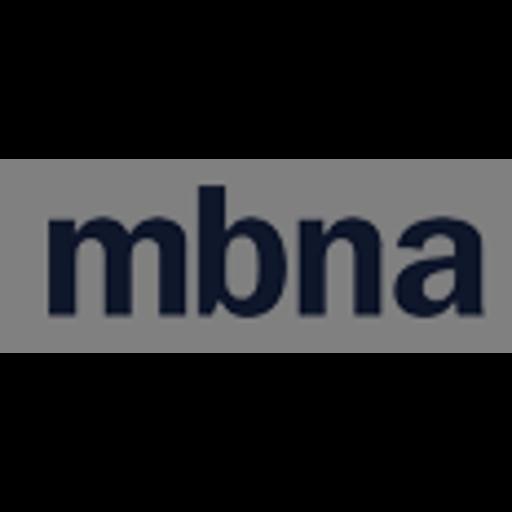MBNA Corportation: (0, 159, 512, 353)
